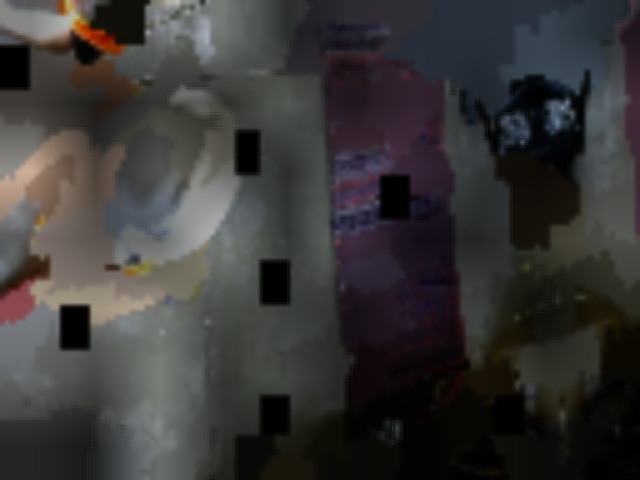three: (212, 109, 238, 162)
